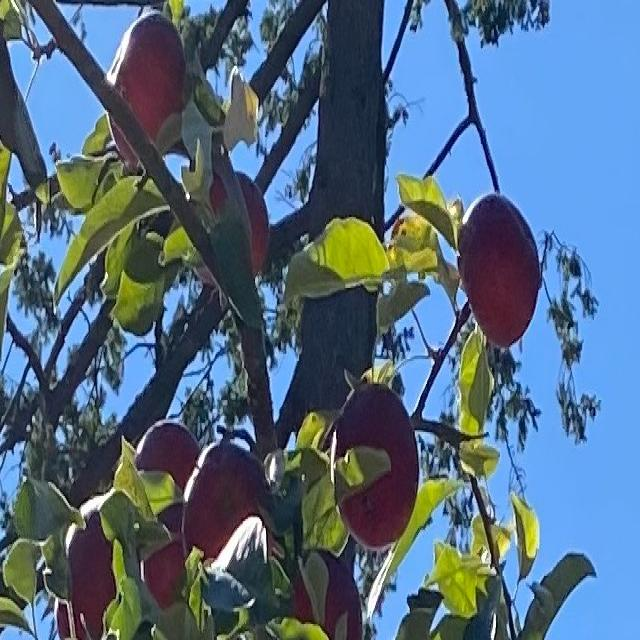100-_ripeness: (333, 382, 420, 546), (458, 198, 541, 340), (108, 14, 186, 155), (184, 438, 269, 566), (194, 169, 270, 288), (135, 418, 199, 532), (291, 546, 365, 640), (67, 494, 122, 620), (140, 528, 189, 604), (58, 579, 104, 640)
